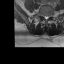CCS_stenosis: (45, 14, 47, 21)
LFS_stenosis: (48, 13, 50, 18)
LLS_normal: (47, 14, 48, 20)
RFS_stenosis: (42, 13, 43, 18)
RLS_normal: (43, 14, 45, 20)
